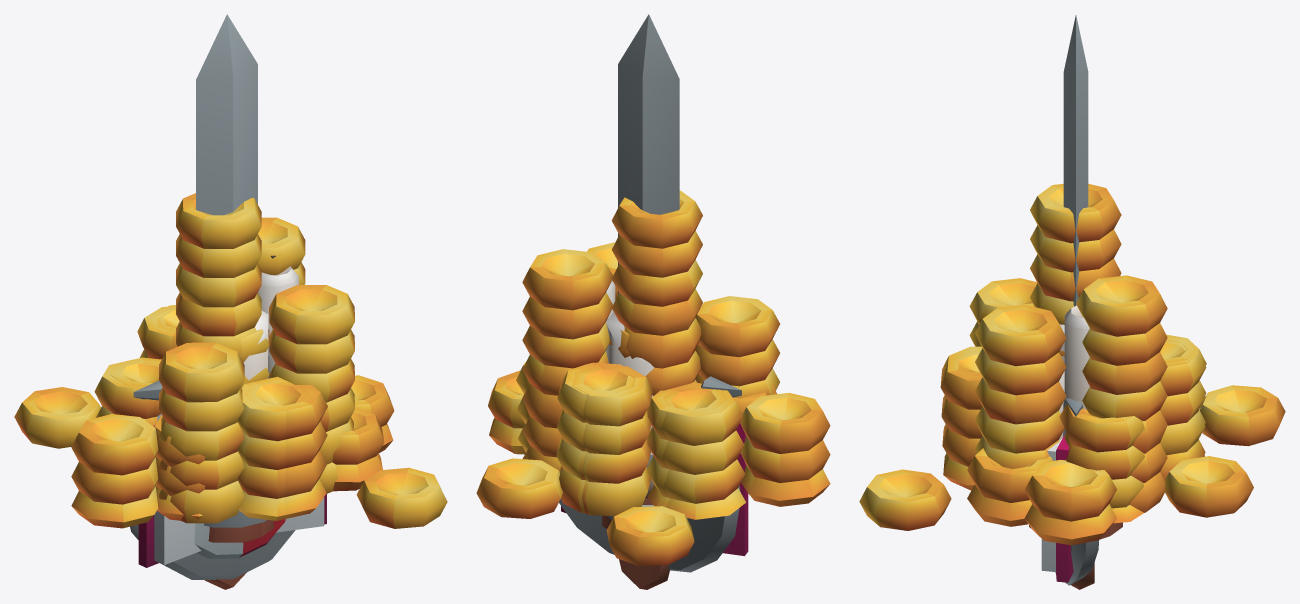
The model's file is props.glb.
The picture shows the model from 3 angles, left to right: view 1: azimuth 30°, elevation 25°; view 2: azimuth 150°, elevation 25°; view 3: azimuth 270°, elevation 25°; orthographic projection.
Visible parts, largest first — view 1: coin_stack_large, coin_stack_medium, sword_2handed, shield_round_color, spellbook_open, candle_triple, mug_full; view 2: coin_stack_large, sword_2handed, coin_stack_medium, shield_round_color, candle_triple, spellbook_open, quiver; view 3: coin_stack_large, coin_stack_medium, sword_2handed, candle_triple, spellbook_open, shield_round_color.
Boxes of the visible parts, left/top/right/bottom form: coin_stack_large: left=14, top=193, right=447, bottom=528; coin_stack_medium: left=110, top=305, right=384, bottom=520; sword_2handed: left=133, top=14, right=257, bottom=400; shield_round_color: left=130, top=414, right=295, bottom=579; spellbook_open: left=138, top=425, right=326, bottom=567; candle_triple: left=243, top=255, right=298, bottom=379; mug_full: left=204, top=510, right=274, bottom=542; coin_stack_large: left=476, top=190, right=830, bottom=565; sword_2handed: left=618, top=14, right=741, bottom=397; coin_stack_medium: left=516, top=329, right=776, bottom=513; shield_round_color: left=559, top=485, right=740, bottom=572; candle_triple: left=606, top=281, right=654, bottom=429; spellbook_open: left=561, top=423, right=748, bottom=555; quiver: left=619, top=559, right=669, bottom=589; coin_stack_large: left=859, top=183, right=1285, bottom=545; coin_stack_medium: left=940, top=339, right=1206, bottom=526; sword_2handed: left=1063, top=15, right=1088, bottom=416; candle_triple: left=1059, top=305, right=1089, bottom=439; spellbook_open: left=1041, top=435, right=1073, bottom=582; shield_round_color: left=1055, top=429, right=1099, bottom=585.
Size of the model in its own units: 1.44 by 2.47 by 1.66.
Materials: 5 (5 with a texture image).
